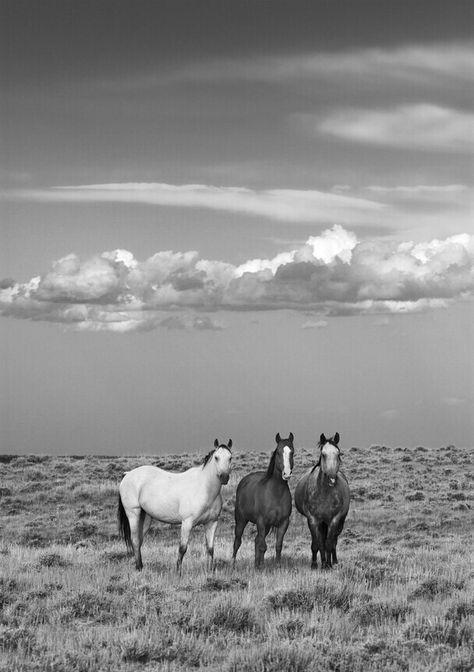horse: (116, 437, 233, 577), (231, 431, 294, 570), (293, 431, 350, 570)
